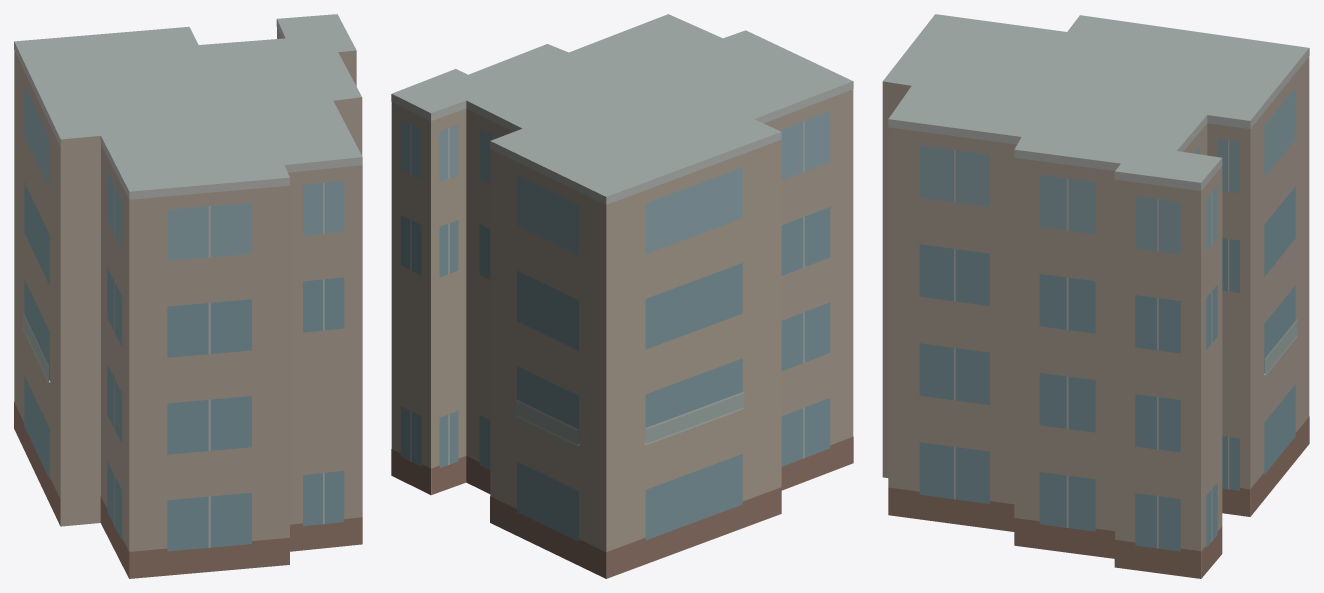
Rendered from survey-upis-33031995.glb.
3 renders of one model, left to right at view 1: azimuth 30°, elevation 25°; view 2: azimuth 150°, elevation 25°; view 3: azimuth 270°, elevation 25°, orthographic. The views are drawn at different scales.
Parts seen in each view (by area): view 1: survey-upis-33031995.tmp; view 2: survey-upis-33031995.tmp; view 3: survey-upis-33031995.tmp.
Part boxes in pixels (x1=…): survey-upis-33031995.tmp: x1=14, y1=14, x2=362, y2=578; survey-upis-33031995.tmp: x1=391, y1=14, x2=853, y2=578; survey-upis-33031995.tmp: x1=882, y1=14, x2=1309, y2=578.
Bounding box in the file's own units: 10.8 × 11.8 × 11.53.
